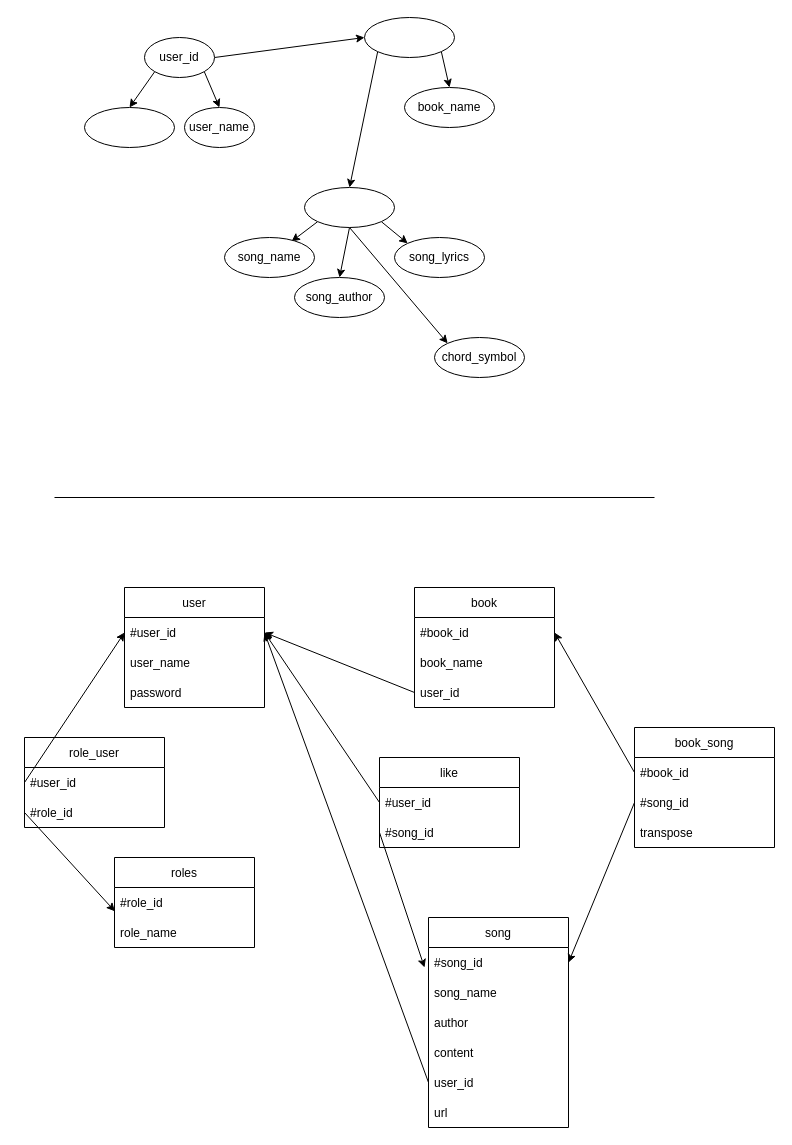
This 792x1145 diagram has some shape labels left out. The centre of each missing label's shape, as x and y in pixels:
"book_id" belongs at [409,37].
"song_id" belongs at [349,207].
"user_password" belongs at [129,127].
